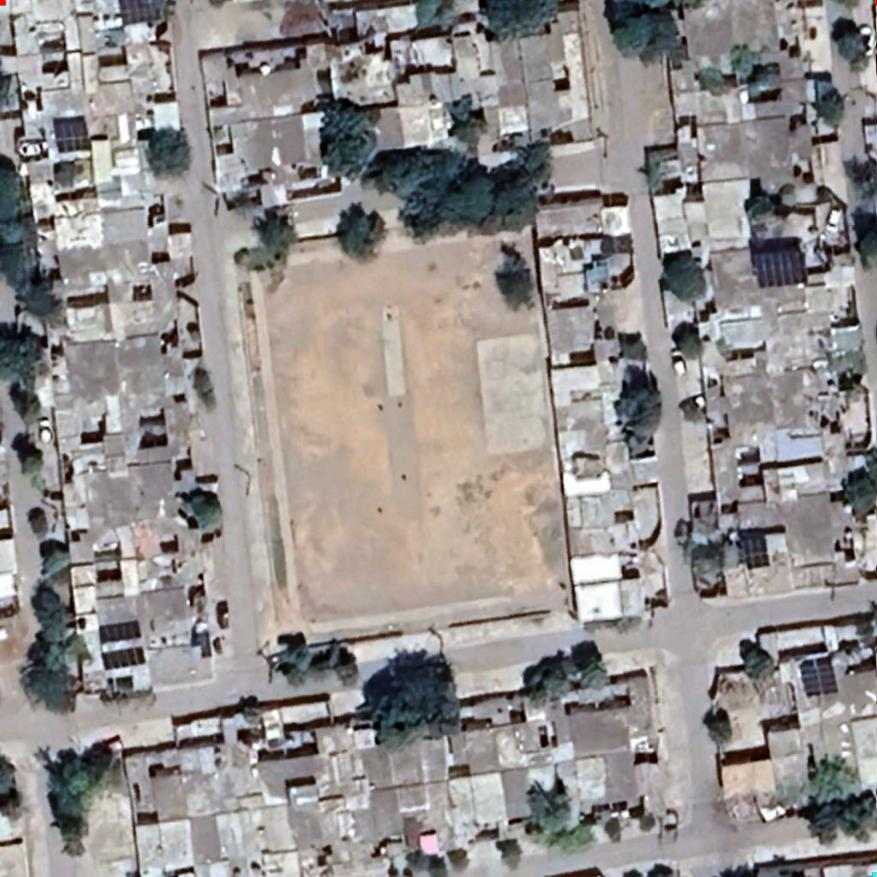Solarpanel: (753, 250, 809, 290), (798, 658, 842, 698), (54, 115, 94, 153), (101, 645, 148, 671), (117, 0, 162, 26), (97, 621, 145, 645), (740, 534, 772, 569)
